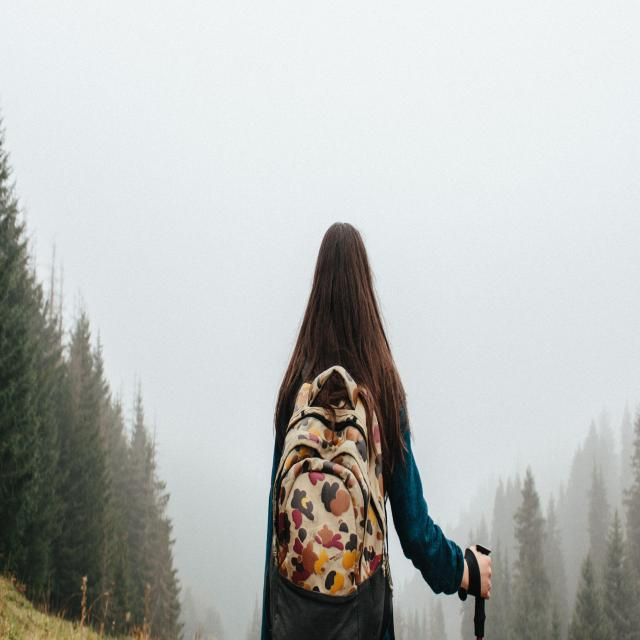backpack: (261, 365, 391, 640)
